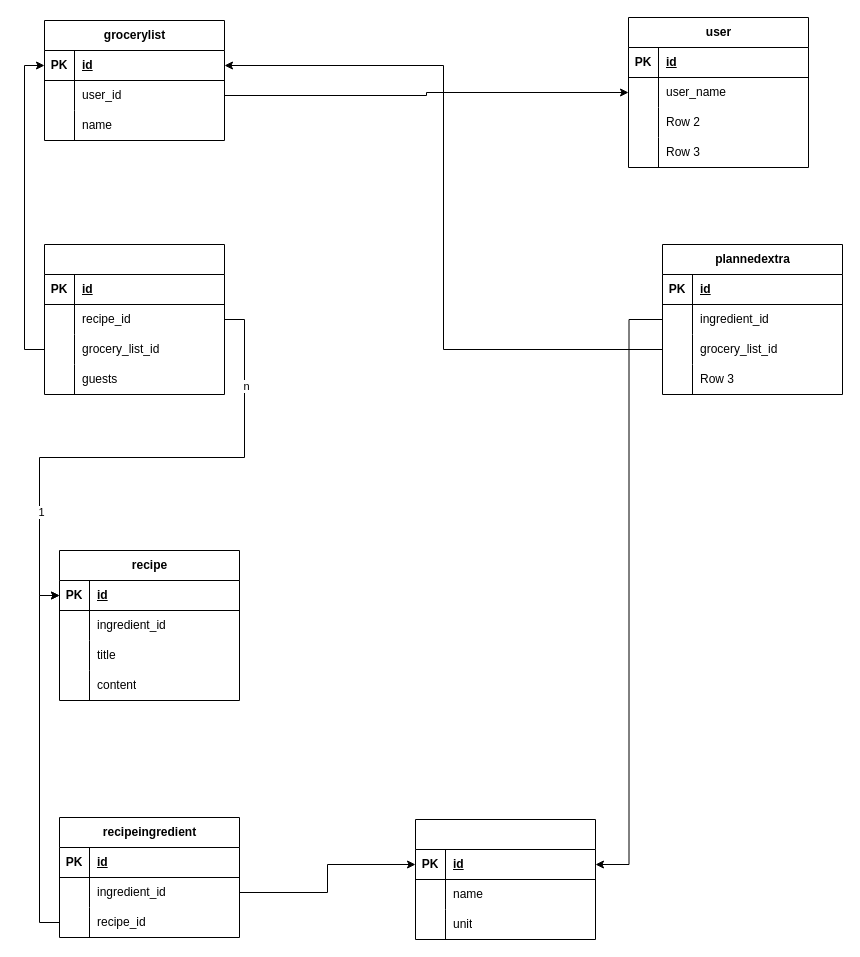
The diagram is 860 pixels wide and 957 high, and some of its shapes have lost their labels. The shapes that lost their labels are listed below. From the top down, each one's box as (x1, y1, x2, y2) in pixels, then its label:
(44, 244, 224, 394): plannedrecipe
(414, 818, 596, 940): ingredient
